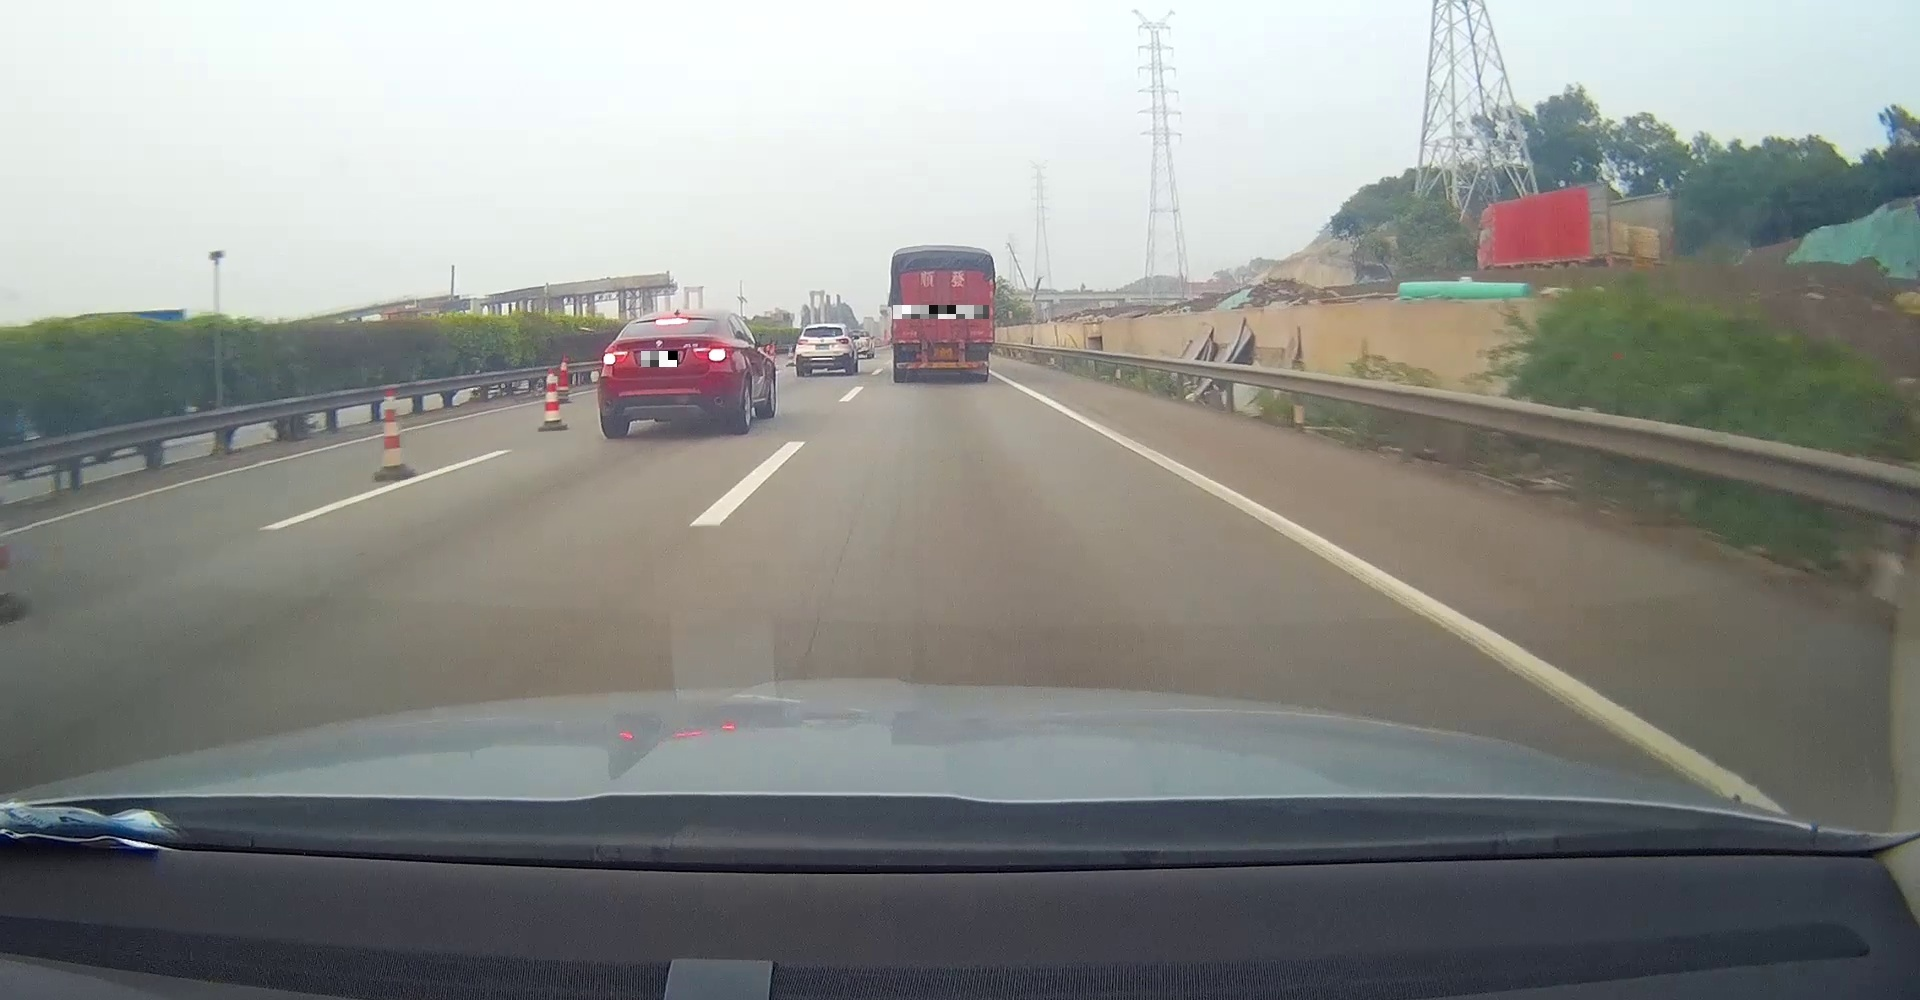L_light: (602, 352, 629, 365), (902, 344, 918, 352), (797, 339, 808, 345)
R_light: (693, 346, 728, 363), (968, 343, 985, 352), (836, 338, 850, 344)
T_light: (655, 319, 688, 324), (935, 268, 952, 273), (818, 327, 827, 329)
day-brake: (597, 308, 735, 438)
day-no: (891, 245, 994, 382), (795, 324, 850, 377)
plate_1: (641, 352, 678, 367)
plate_2: (893, 305, 989, 319)
